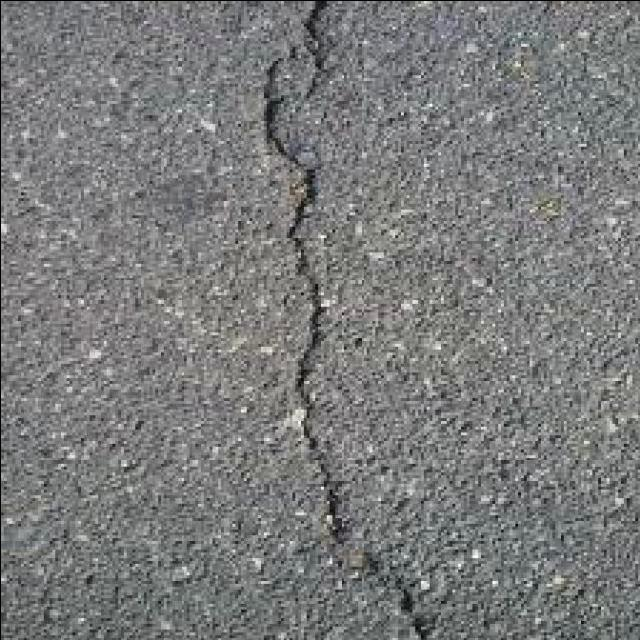SurfaceCrack: (202, 0, 446, 640)
